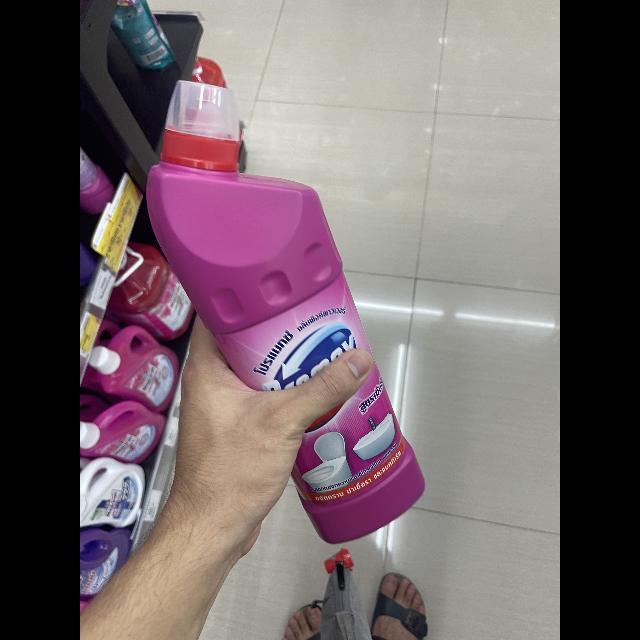chemical_plastic_bottle: (136, 43, 424, 544)
